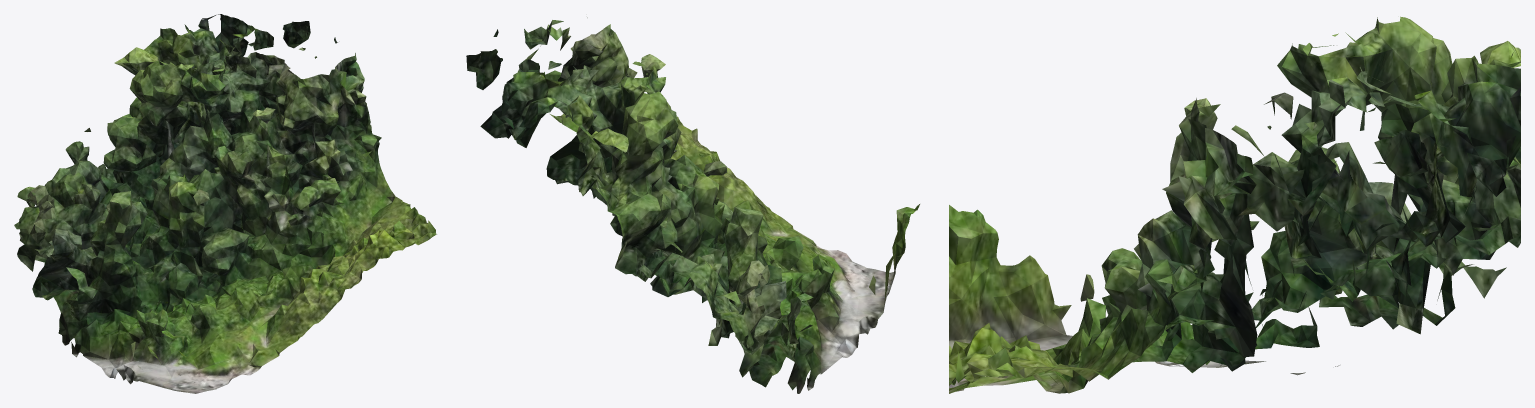
The picture shows the model from 3 angles, left to right: view 1: azimuth 30°, elevation 25°; view 2: azimuth 150°, elevation 25°; view 3: azimuth 270°, elevation 25°; orthographic projection. The views are drawn at different scales.
Size of the model in its own units: 52.22 by 46.03 by 52.22.
7 materials, 7 textured.
